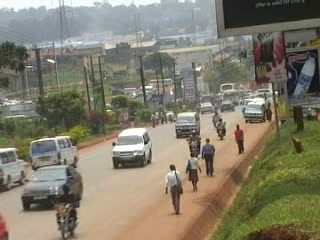Car: (18, 163, 86, 214), (109, 123, 157, 170), (0, 208, 16, 238), (196, 100, 214, 117), (216, 98, 235, 112)
Motorcycle: (47, 185, 84, 239), (184, 129, 204, 159), (214, 118, 229, 141), (210, 108, 223, 128), (164, 106, 178, 124)
